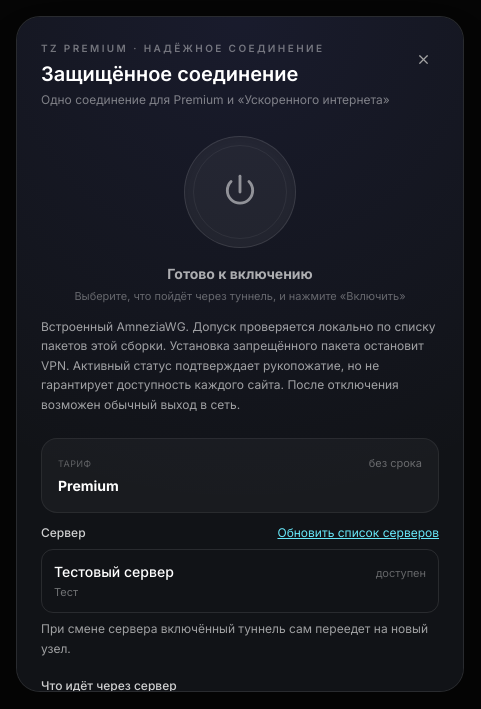
Test: Android native VPN flow › denies enrollment before sending a public key to server
Click the button "Тестовый сервер доступен Тест". click: (114, 571)
box: [41,549,439,613]
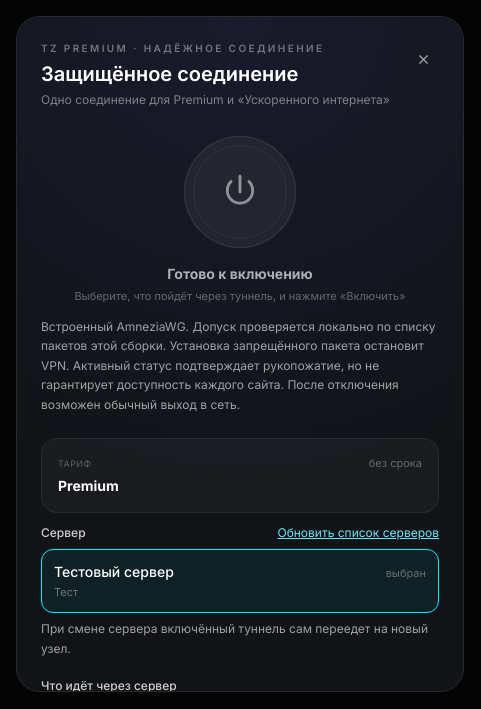
Click the button named "Включить защищённое соединение". click: (240, 192)
box: [184,136,296,248]
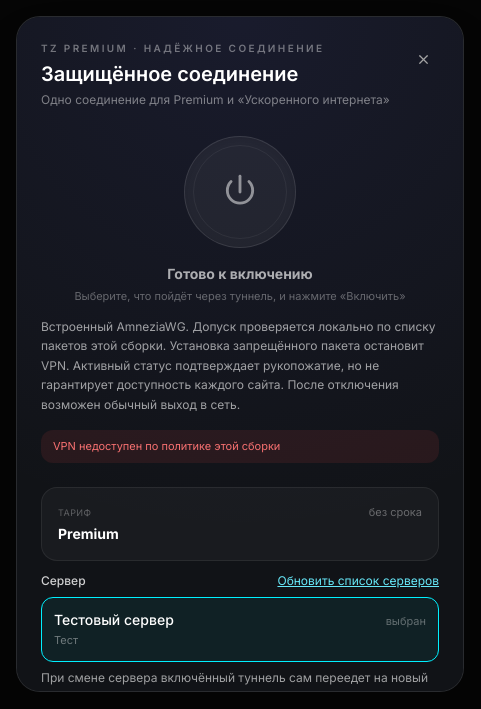
Result: the text "VPN недоступен по политике этой сборки" is shown at [41,430,439,463]
